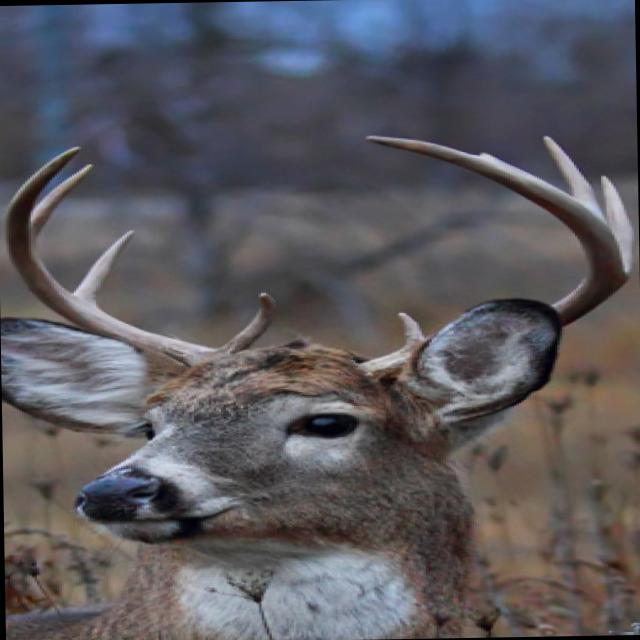L-G1: (397, 312, 424, 344)
R-G1: (221, 291, 274, 352)
R-G2: (72, 229, 135, 311)
